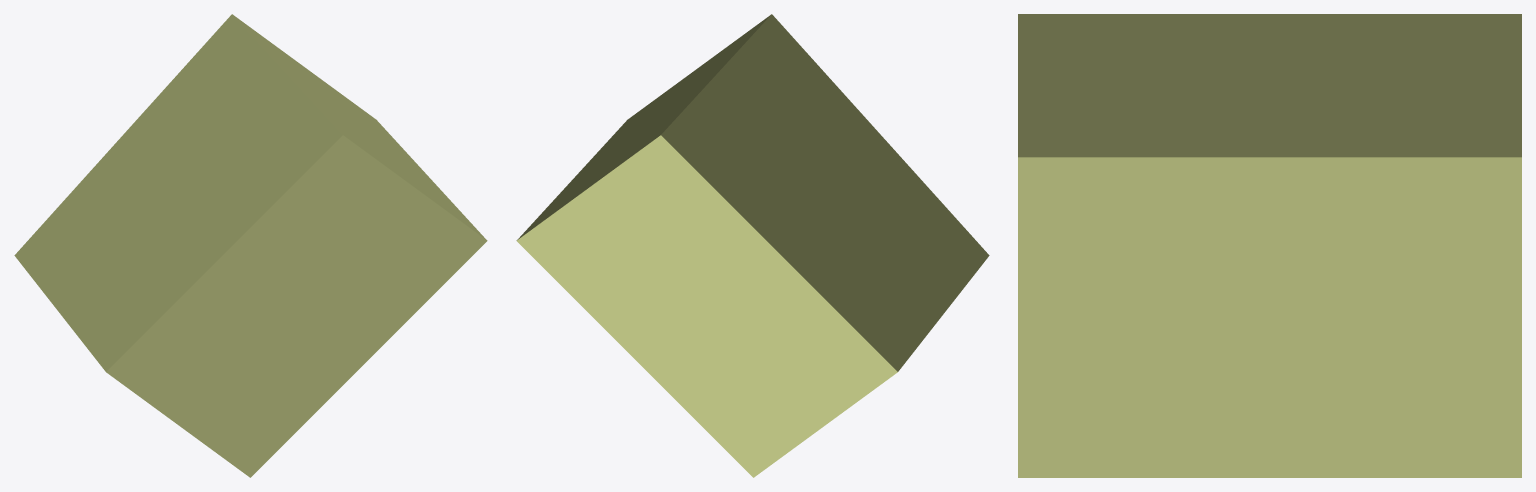
3 views of the same model, side by side, from view 1: azimuth 30°, elevation 25°; view 2: azimuth 150°, elevation 25°; view 3: azimuth 270°, elevation 25° (orthographic). The views are drawn at different scales.
Visible parts, largest first — view 1: 0_1_2_0_1_1_0_0_0_2_3; view 2: 0_1_2_0_1_1_0_0_0_2_3; view 3: 0_1_2_0_1_1_0_0_0_2_3.
Boxes of the visible parts, x1,y1,x2,y2 form: 0_1_2_0_1_1_0_0_0_2_3: [14, 14, 487, 477]; 0_1_2_0_1_1_0_0_0_2_3: [516, 14, 989, 477]; 0_1_2_0_1_1_0_0_0_2_3: [1018, 14, 1521, 477].
Size of the model in its own units: 7.88 by 7.51 by 6.
